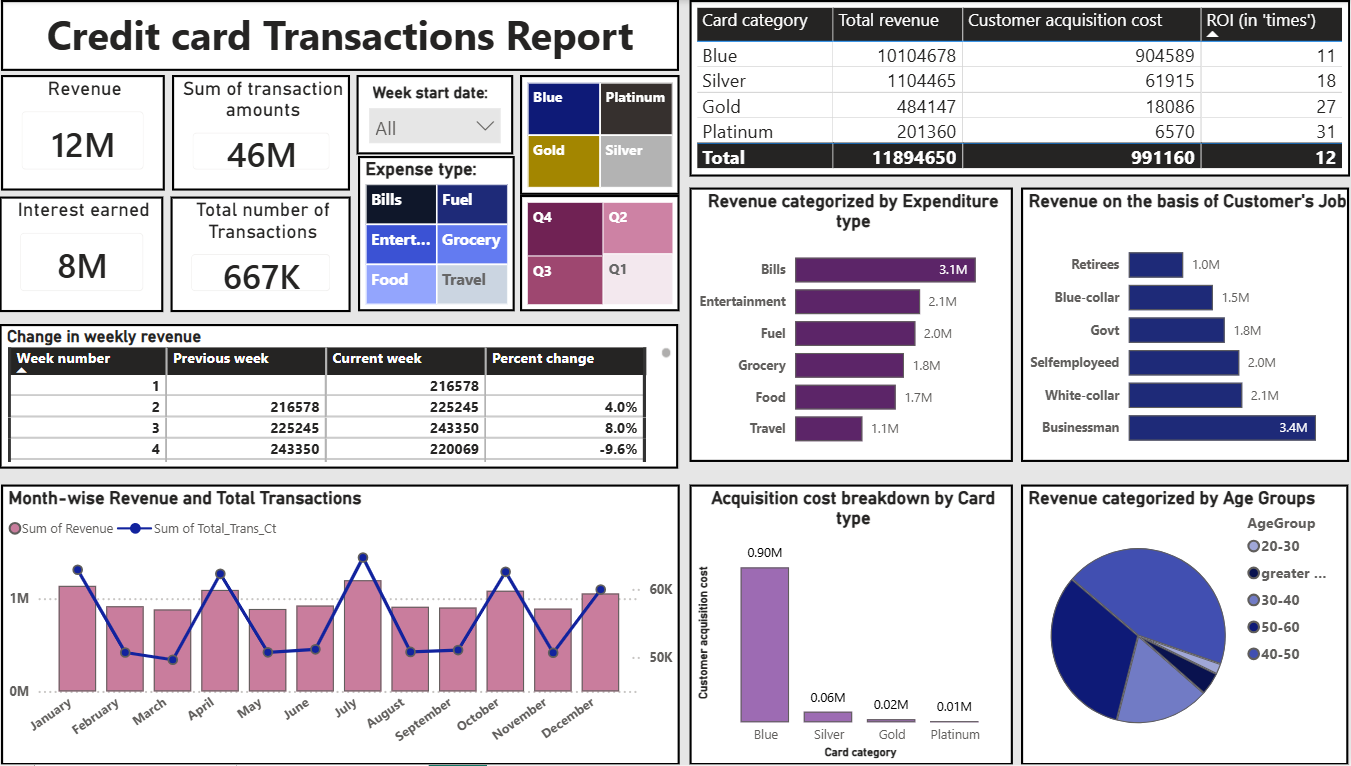

Layout of this report page (visuals, bound fields, positions):
{"tool":"powerbi","page":{"name":"Creditcard report","canvas":[1280,720],"ordinal":0},"visuals":[{"type":"textbox","box":[10.7,0,637.3,66.7],"z":0},{"type":"lineStackedColumnComboChart","title":"Month-wise Revenue and Total Transactions","fields":{"Y":["Sum(creditcarddb creditcard_details.Revenue)"],"Y2":["Sum(creditcarddb creditcard_details.Total_Trans_Ct)"],"Category":["creditcarddb creditcard_details.Week_Start_Date.Variation.Date Hierarchy.Month"]},"box":[11.1,455.1,638.1,264.2],"z":1000},{"type":"barChart","title":"Revenue categorized by Expenditure type","fields":{"Y":["Sum(creditcarddb creditcard_details.Revenue)"],"Category":["creditcarddb creditcard_details.Exp_Type"]},"box":[658.8,176.6,304,257.8],"z":2000},{"type":"barChart","title":"Revenue on the basis of Customer''s Job ","fields":{"Y":["Sum(creditcarddb creditcard_details.Revenue)"],"Category":["creditcarddb customer_details.Customer_Job"]},"box":[970.6,176.6,309.5,257.9],"z":3000},{"type":"pieChart","title":"Revenue categorized by Age Groups","fields":{"Category":["creditcarddb customer_details.AgeGroup"],"Y":["Sum(creditcarddb creditcard_details.Revenue)"]},"box":[970.7,455.1,308.7,264.2],"z":4000},{"type":"columnChart","title":"Acquisition cost breakdown by Card type","fields":{"Category":["creditcarddb creditcard_details.Card_Category"],"Y":["Sum(creditcarddb creditcard_details.Customer_Acq_Cost)"]},"box":[658.8,455.1,304,264.2],"z":5000},{"type":"tableEx","fields":{"Values":["creditcarddb creditcard_details.Card_Category","Sum(creditcarddb creditcard_details.Revenue)","Sum(creditcarddb creditcard_details.Customer_Acq_Cost)","creditcarddb creditcard_details.ROI"]},"box":[658,0,622.1,165.7],"z":6000},{"type":"cardVisual","title":"Revenue","fields":{"Data":["Sum(creditcarddb creditcard_details.Revenue)"]},"box":[11.2,70,153.8,108.8],"z":7000},{"type":"cardVisual","title":"Sum of transaction amounts","fields":{"Data":["Sum(creditcarddb creditcard_details.Total_Trans_Amt)"]},"box":[172.5,70,167.5,108.8],"z":8000},{"type":"cardVisual","title":"Total number of Transactions","fields":{"Data":["Sum(creditcarddb creditcard_details.Total_Trans_Ct)"]},"box":[171.2,184.7,169.5,108.5],"z":9000},{"type":"cardVisual","title":"Interest earned","fields":{"Data":["Sum(creditcarddb creditcard_details.Interest_Earned)"]},"box":[10,184.3,154.3,108.6],"z":10000},{"type":"slicer","fields":{"Values":["creditcarddb creditcard_details.Week_Start_Date"]},"box":[345.8,71.2,147.5,74.6],"z":11000},{"type":"treemap","fields":{"Group":["creditcarddb creditcard_details.Qtr"],"Values":["Avg(creditcarddb creditcard_details.Client_Num)"]},"box":[498.6,182.9,150,109.4],"z":12000},{"type":"treemap","fields":{"Group":["creditcarddb creditcard_details.Card_Category"],"Values":["Count(creditcarddb creditcard_details.Card_Category)"]},"box":[498.6,70.3,150,112.5],"z":13000},{"type":"treemap","title":"Expense type:","fields":{"Group":["creditcarddb creditcard_details.Exp_Type"],"Values":["Count(creditcarddb creditcard_details.Exp_Type)"]},"box":[346.2,146.2,147.4,146.2],"z":14000},{"type":"tableEx","title":"Change in weekly revenue","fields":{"Values":["creditcarddb creditcard_details.Week_num_new","creditcarddb creditcard_details.Previous_week_revenue","creditcarddb creditcard_details.Current_week_revenue","creditcarddb creditcard_details.week_on_week_revenue"]},"box":[9.5,304,638.1,136],"z":15000}]}

Visuals, with their boxes in screenshot pixels (x1, y1, x2, y2), scaled from the page's 1280x720 canvas onto the 1351x766 screenshot:
textbox: [left=11, top=0, right=684, bottom=71]
"Month-wise Revenue and Total Transactions" lineStackedColumnComboChart: [left=12, top=484, right=685, bottom=765]
"Revenue categorized by Expenditure type" barChart: [left=695, top=188, right=1016, bottom=462]
"Revenue on the basis of Customer''s Job " barChart: [left=1024, top=188, right=1350, bottom=462]
"Revenue categorized by Age Groups" pieChart: [left=1025, top=484, right=1350, bottom=765]
"Acquisition cost breakdown by Card type" columnChart: [left=695, top=484, right=1016, bottom=765]
tableEx - creditcarddb creditcard_details.Card_Category x Sum(creditcarddb creditcard_details.Revenue): [left=694, top=0, right=1350, bottom=176]
"Revenue" cardVisual: [left=12, top=74, right=174, bottom=190]
"Sum of transaction amounts" cardVisual: [left=182, top=74, right=359, bottom=190]
"Total number of Transactions" cardVisual: [left=181, top=197, right=360, bottom=312]
"Interest earned" cardVisual: [left=11, top=196, right=173, bottom=312]
slicer - creditcarddb creditcard_details.Week_Start_Date: [left=365, top=76, right=521, bottom=155]
treemap - creditcarddb creditcard_details.Qtr x Avg(creditcarddb creditcard_details.Client_Num): [left=526, top=195, right=685, bottom=311]
treemap - creditcarddb creditcard_details.Card_Category x Count(creditcarddb creditcard_details.Card_Category): [left=526, top=75, right=685, bottom=194]
"Expense type:" treemap: [left=365, top=156, right=521, bottom=311]
"Change in weekly revenue" tableEx: [left=10, top=323, right=684, bottom=468]
